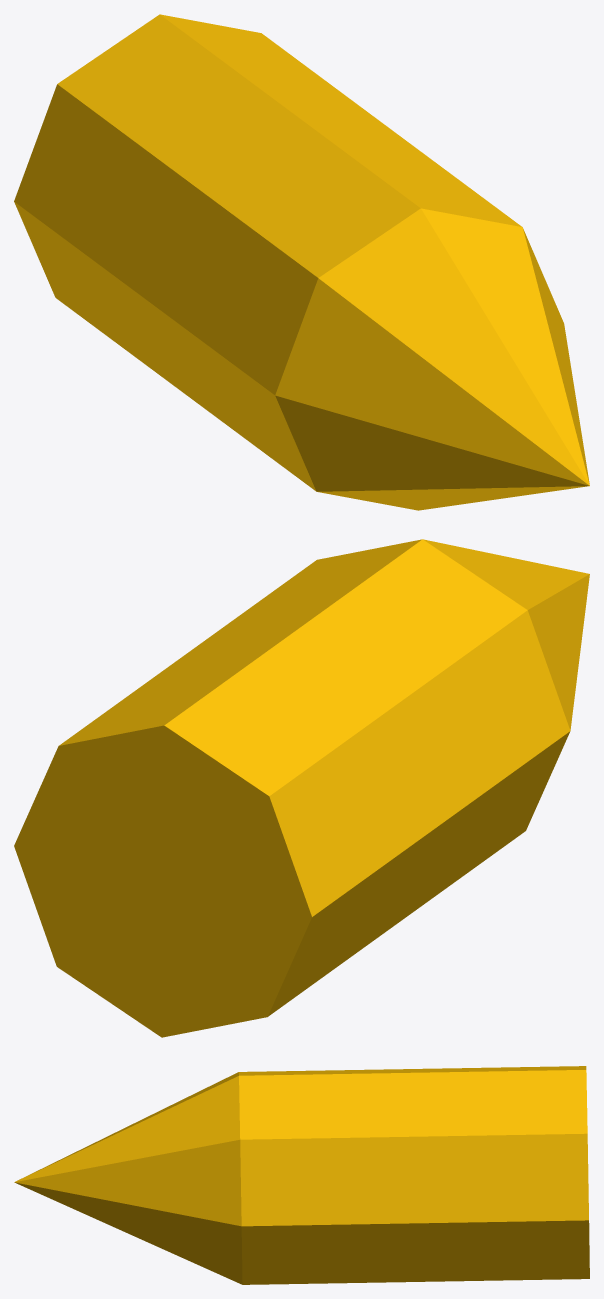
The model's file is bullet.glb.
The picture shows the model from 3 angles, top to bottom: view 1: azimuth 30°, elevation 25°; view 2: azimuth 150°, elevation 25°; view 3: azimuth 270°, elevation 25°; orthographic projection. The views are drawn at different scales.
Visible parts, largest first — view 1: Cone; view 2: Cone; view 3: Cone.
Part boxes in pixels (x1=…): Cone: x1=14, y1=14, x2=589, y2=510; Cone: x1=14, y1=539, x2=589, y2=1037; Cone: x1=14, y1=1066, x2=589, y2=1284.
Bounding box in the file's own units: 0.0611 × 0.0616 × 0.153.
